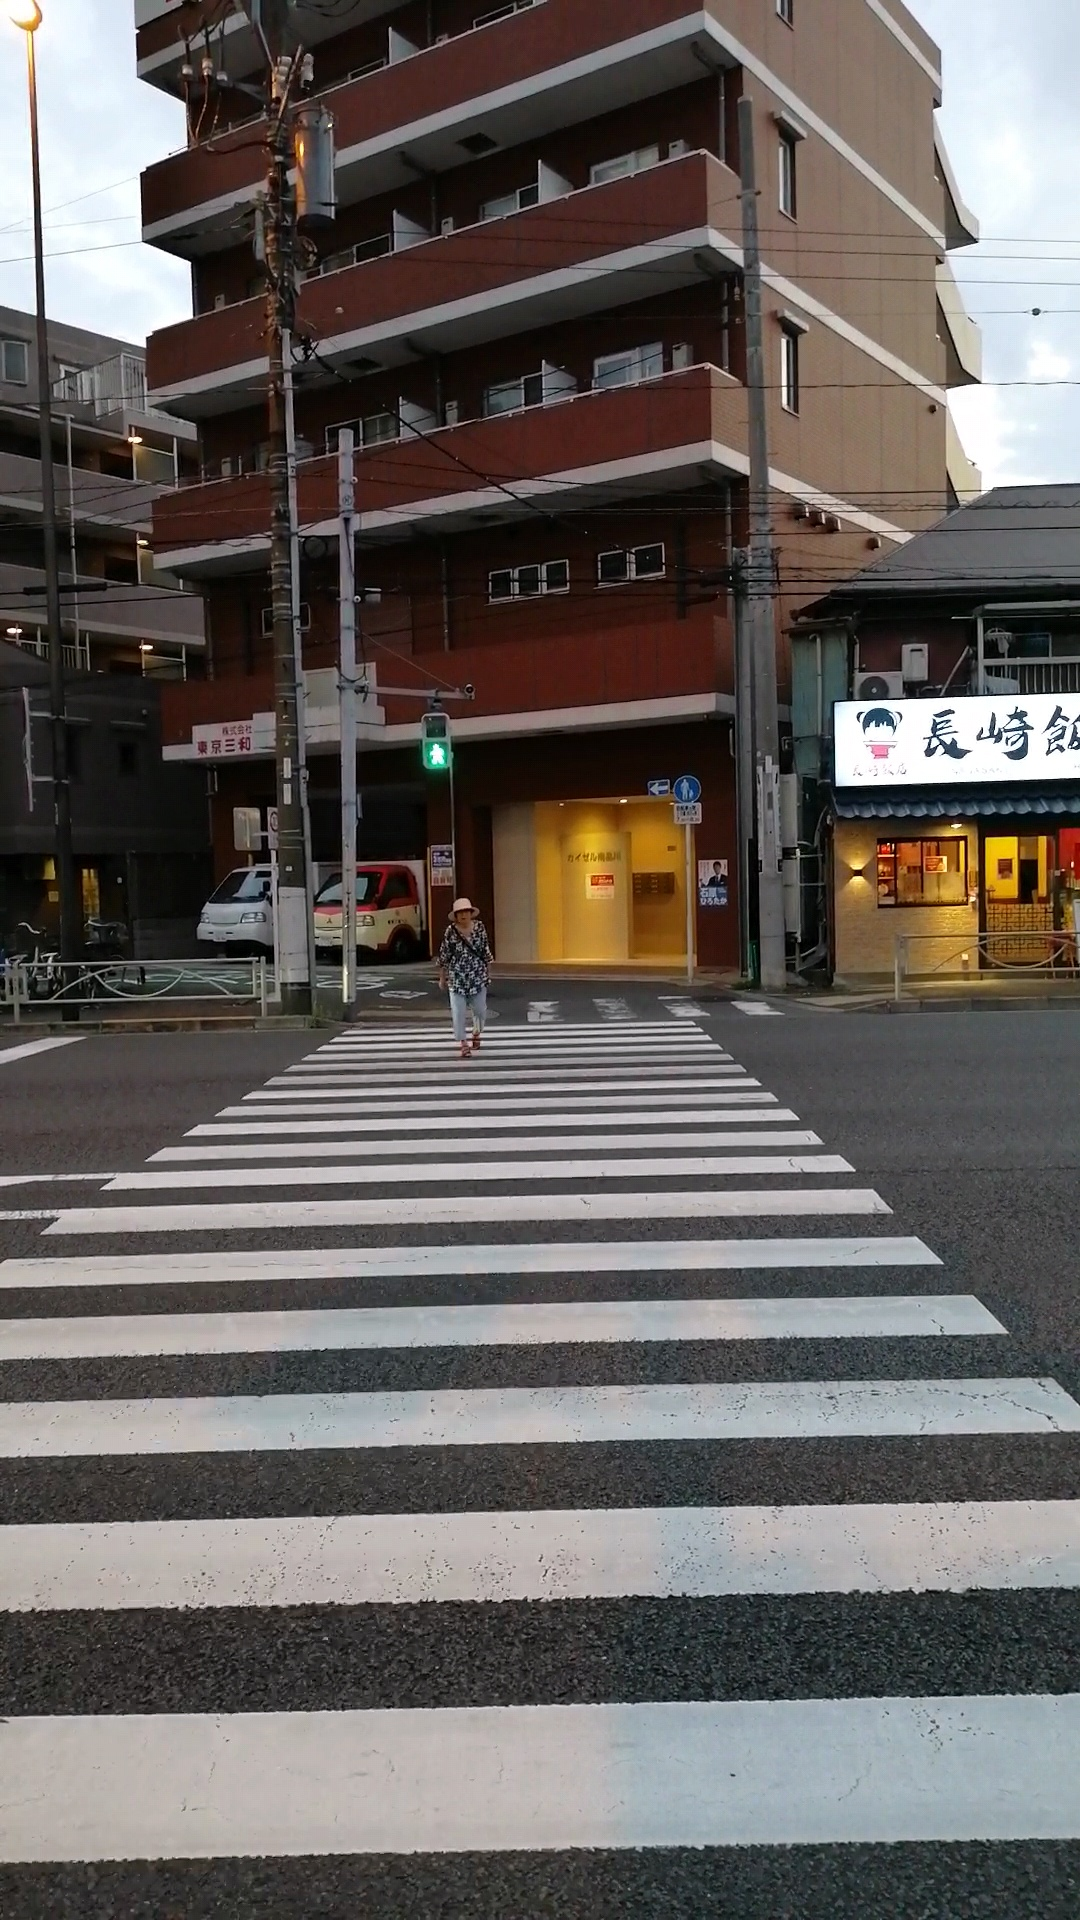green: (419, 711, 452, 769)
